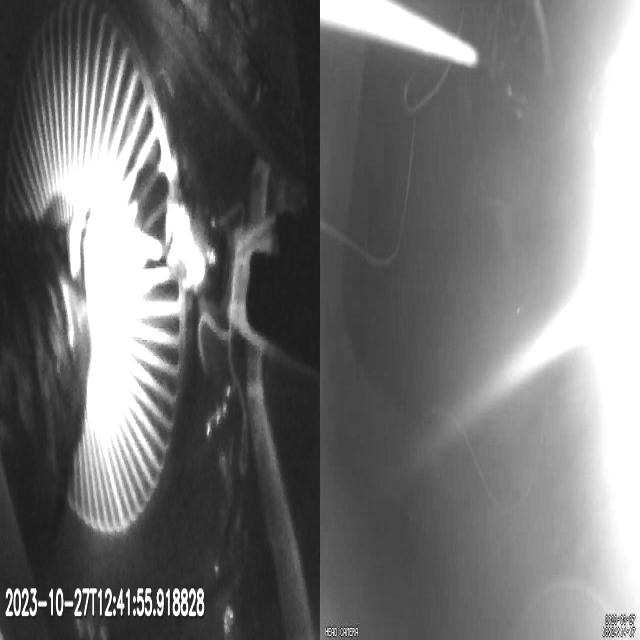head: (72, 196, 124, 288)
